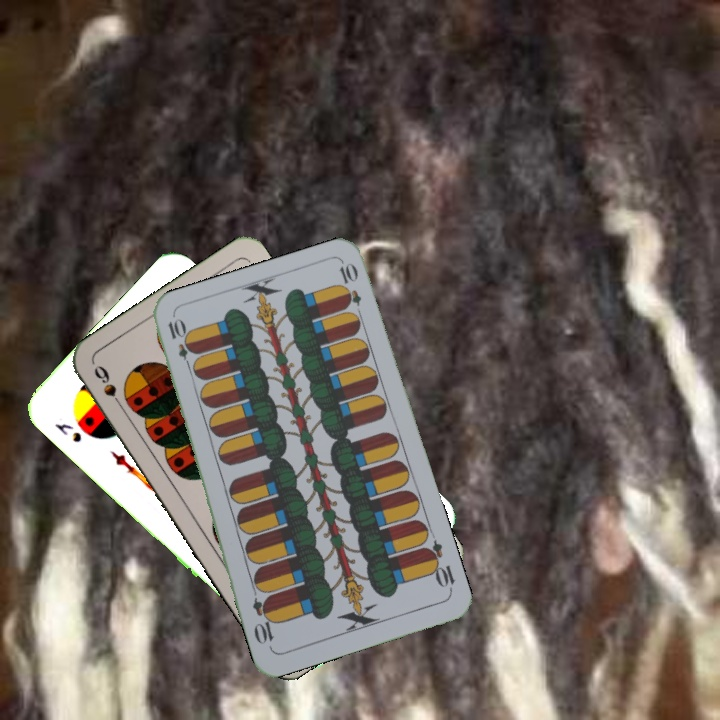E10: (420, 537, 459, 595), (163, 315, 196, 373)
S9: (89, 361, 128, 414)
SK: (50, 419, 84, 446)
